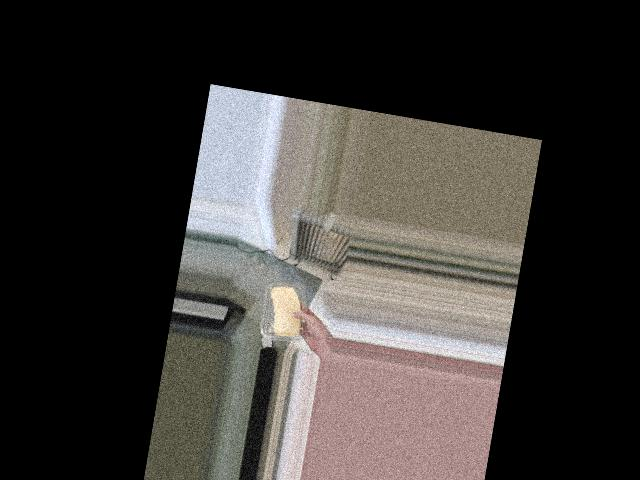cheese: (258, 276, 312, 344)
